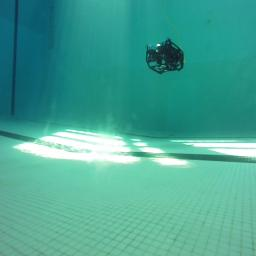front: (146, 37, 184, 75)
